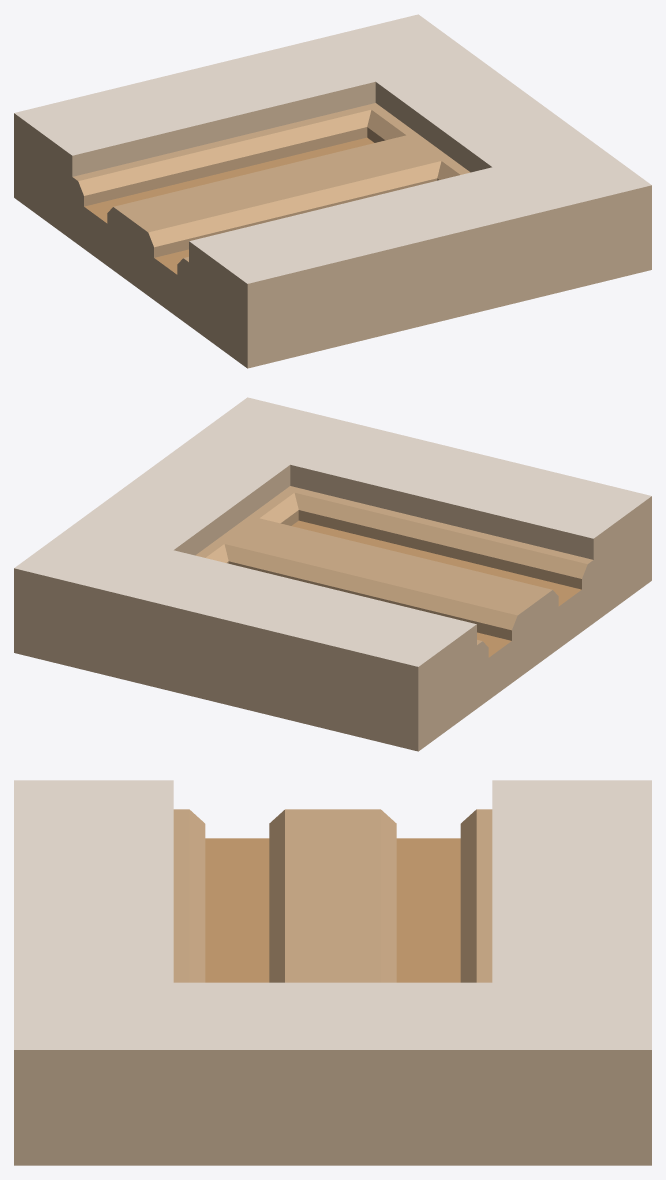
Rendered from Puzzle_Track_Standard_End.fbx.
3 views of the same model, one above another, from view 1: azimuth 30°, elevation 25°; view 2: azimuth 150°, elevation 25°; view 3: azimuth 270°, elevation 25° (orthographic). The views are drawn at different scales.
Parts seen in each view (by area): view 1: Sandstone_Trim.Sandstone_Trim.Sandstone_Trim, Sandstone_Floor, Sandstone_4.Sandstone_4.Sandstone_4.Sandstone_4.object1, Sandstone_5.Sandstone_5; view 2: Sandstone_Trim.Sandstone_Trim.Sandstone_Trim, Sandstone_Floor, Sandstone_4.Sandstone_4.Sandstone_4.Sandstone_4.object1, Sandstone_5.Sandstone_5; view 3: Sandstone_Floor, Sandstone_Trim.Sandstone_Trim.Sandstone_Trim, Sandstone_4.Sandstone_4.Sandstone_4.Sandstone_4.object1, Sandstone_5.Sandstone_5.
Part boxes in pixels (box(x1,y1,x2,y2)): Sandstone_Trim.Sandstone_Trim.Sandstone_Trim: box(14, 81, 651, 368); Sandstone_Floor: box(14, 14, 651, 283); Sandstone_4.Sandstone_4.Sandstone_4.Sandstone_4.object1: box(73, 103, 470, 261); Sandstone_5.Sandstone_5: box(84, 137, 373, 274); Sandstone_Trim.Sandstone_Trim.Sandstone_Trim: box(14, 464, 651, 751); Sandstone_Floor: box(14, 397, 651, 666); Sandstone_4.Sandstone_4.Sandstone_4.Sandstone_4.object1: box(195, 486, 592, 644); Sandstone_5.Sandstone_5: box(292, 520, 581, 657); Sandstone_Floor: box(14, 780, 651, 1049); Sandstone_Trim.Sandstone_Trim.Sandstone_Trim: box(14, 1050, 651, 1165); Sandstone_4.Sandstone_4.Sandstone_4.Sandstone_4.object1: box(173, 809, 492, 982); Sandstone_5.Sandstone_5: box(205, 838, 460, 982).
Size of the model in its own units: 1 by 0.2 by 1.
